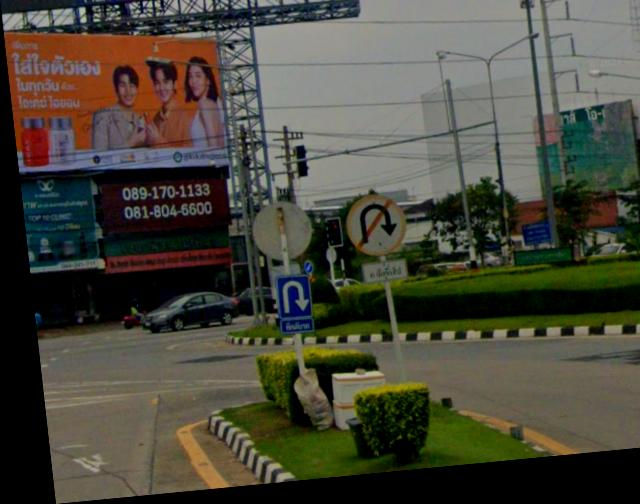not_u_turn_right: (338, 198, 405, 269)
